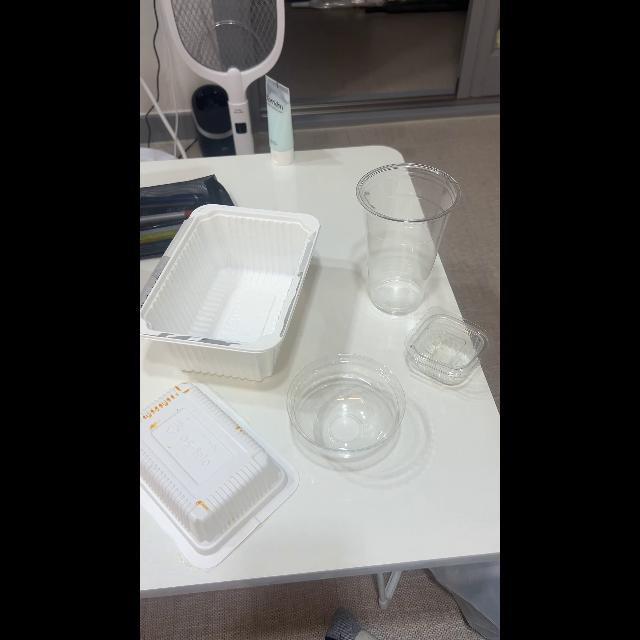clean: (140, 206, 322, 374), (356, 162, 459, 314), (286, 354, 406, 456), (406, 310, 490, 382)
dirty: (140, 382, 286, 546)
